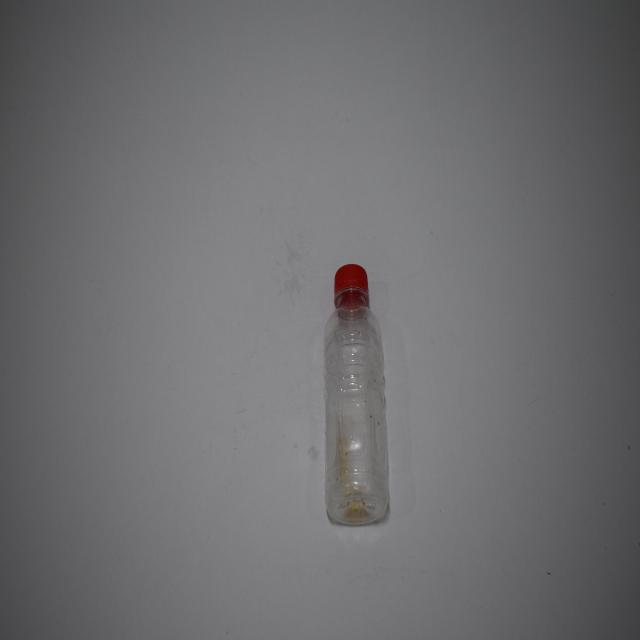empty: (324, 264, 389, 525)
